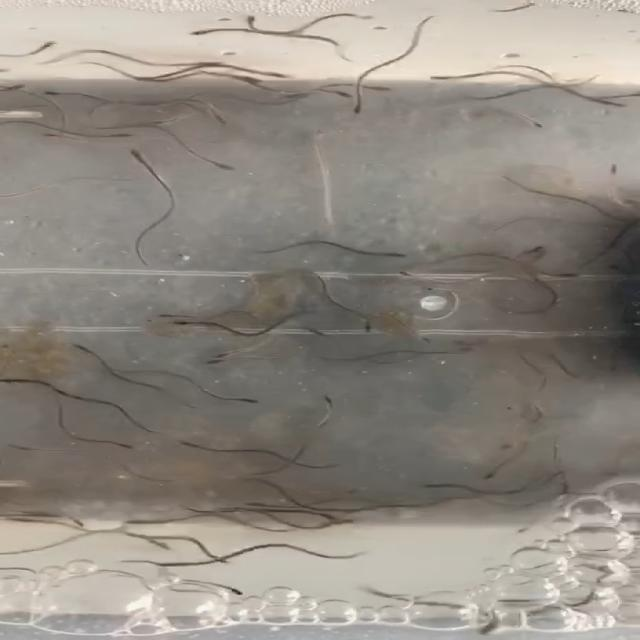active_glass_eel: (585, 94, 631, 110), (119, 146, 151, 168), (352, 540, 387, 560), (355, 80, 398, 96), (415, 477, 451, 495), (206, 105, 234, 128), (208, 152, 240, 172), (331, 484, 368, 500), (236, 74, 272, 90), (190, 54, 226, 70), (348, 99, 378, 118), (104, 437, 142, 452), (312, 392, 340, 412), (302, 326, 337, 342), (322, 84, 354, 100), (226, 392, 262, 406), (262, 70, 302, 82), (425, 72, 465, 84), (0, 375, 30, 391), (444, 342, 474, 358), (140, 314, 176, 327), (356, 316, 379, 336), (324, 515, 362, 527), (34, 38, 62, 54), (56, 514, 88, 528), (32, 128, 64, 142), (66, 343, 100, 356), (526, 115, 550, 133), (222, 580, 246, 598), (186, 26, 228, 36), (36, 86, 66, 100), (112, 130, 142, 144), (170, 436, 204, 448), (394, 269, 425, 282), (0, 81, 28, 95), (379, 250, 411, 262), (150, 537, 174, 553), (602, 162, 626, 178), (238, 13, 265, 27), (555, 269, 582, 283), (480, 468, 500, 486), (204, 552, 233, 564), (208, 347, 236, 359), (493, 439, 515, 454), (526, 242, 550, 255), (202, 356, 230, 366), (170, 319, 202, 327), (414, 332, 435, 344)
